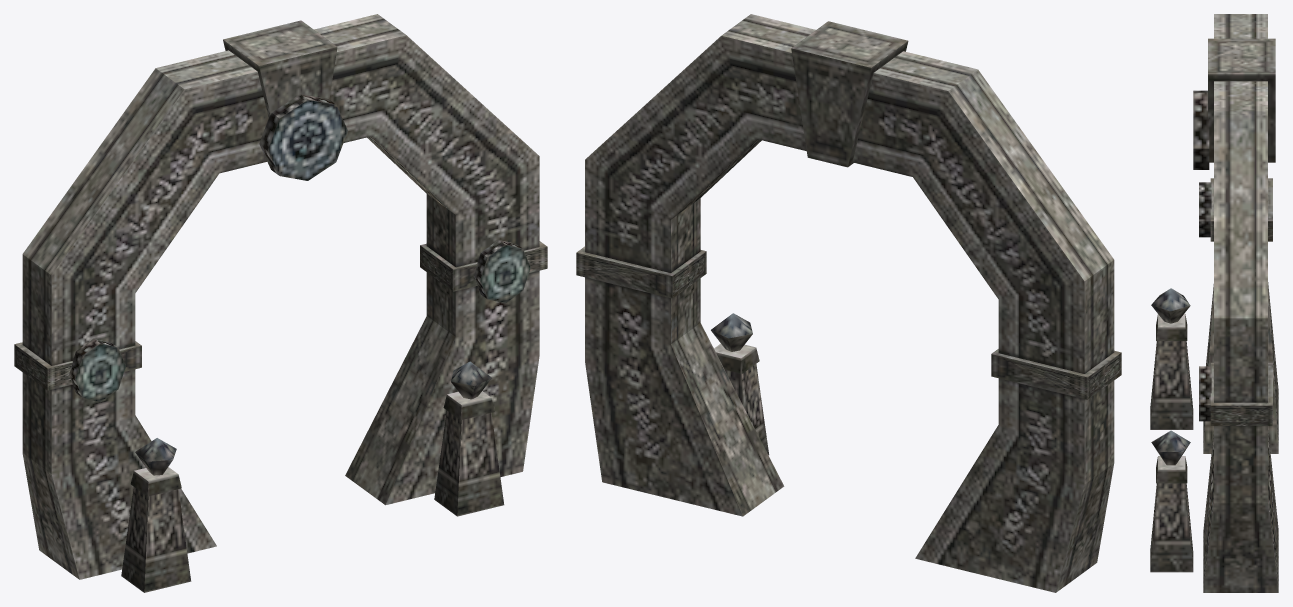
Rendered from warpgate02.glb.
The picture shows the model from 3 angles, left to right: view 1: azimuth 30°, elevation 25°; view 2: azimuth 150°, elevation 25°; view 3: azimuth 270°, elevation 25°; orthographic projection. The views are drawn at different scales.
Parts seen in each view (by area): view 1: Object01; view 2: Object01; view 3: Object01.
Boxes of the visible parts, left/top/right/bottom form: Object01: left=14, top=14, right=547, bottom=592; Object01: left=576, top=14, right=1121, bottom=592; Object01: left=1150, top=14, right=1278, bottom=592.
Size of the model in its own units: 8.61 by 7.72 by 2.06.
1 material, 1 textured.
